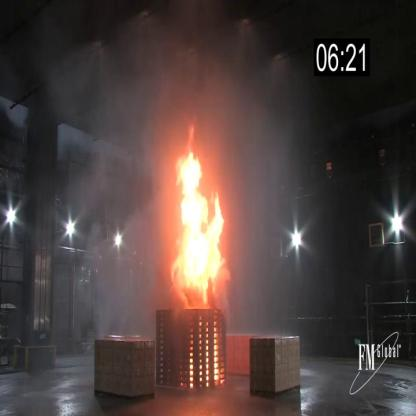fire: (164, 139, 228, 306)
